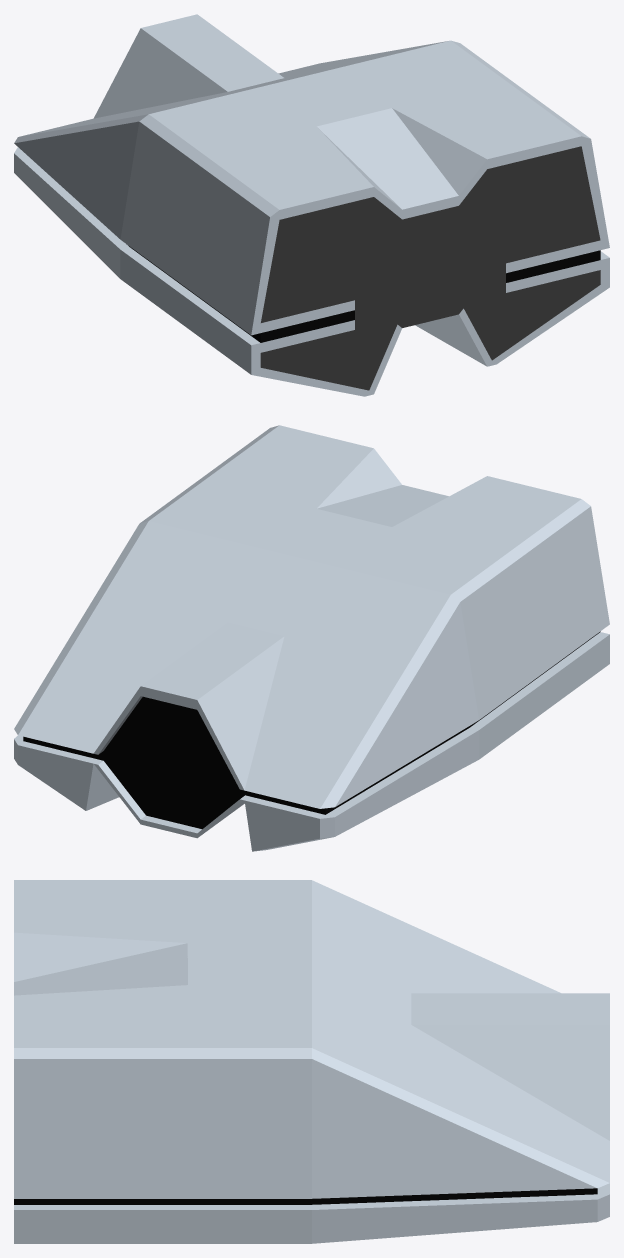
The model's file is Body.FBX.
3 views of the same model, one above another, from view 1: azimuth 30°, elevation 25°; view 2: azimuth 150°, elevation 25°; view 3: azimuth 270°, elevation 25° (orthographic). The views are drawn at different scales.
Parts seen in each view (by area): view 1: VIFS001, VIFS003, VIFS002; view 2: VIFS001, VIFS002; view 3: VIFS001, VIFS002.
Part boxes in pixels (x1,y1,x2,y2): VIFS001: (14, 14, 609, 396); VIFS003: (260, 146, 600, 390); VIFS002: (126, 244, 600, 342); VIFS001: (14, 425, 609, 851); VIFS002: (23, 631, 600, 829); VIFS001: (14, 880, 609, 1243); VIFS002: (14, 1188, 597, 1204).
Size of the model in its own units: 0.76 by 0.42 by 0.96.
